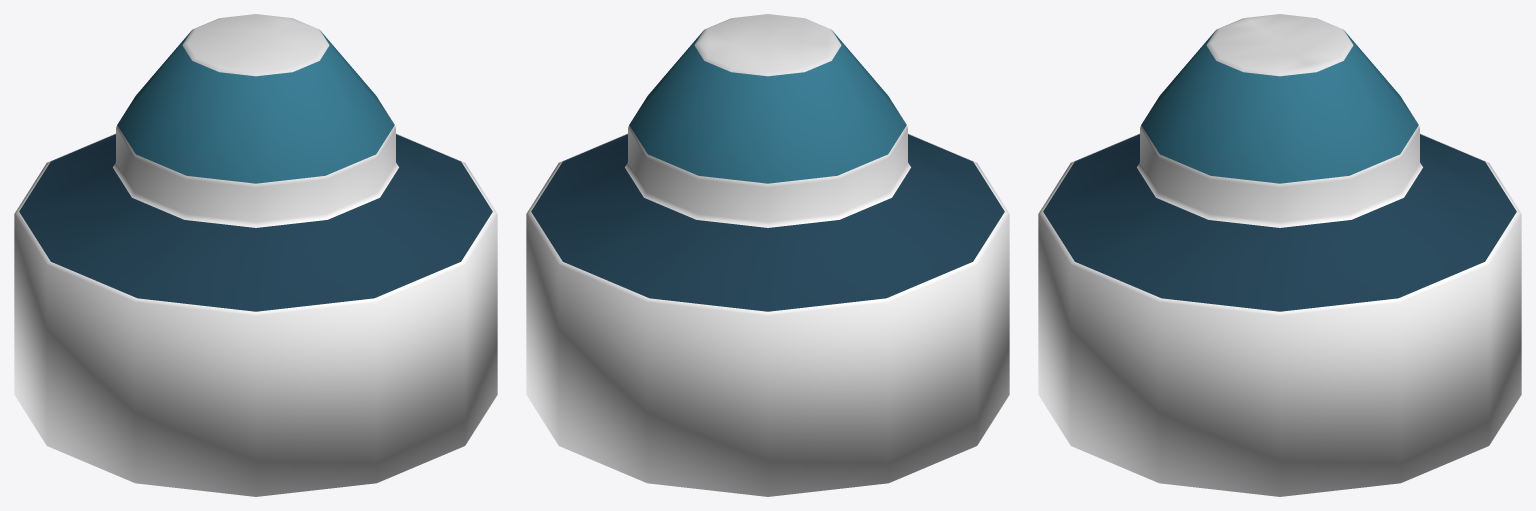
The model's file is HologramStand.fbx.
3 renders of one model, left to right at view 1: azimuth 30°, elevation 25°; view 2: azimuth 150°, elevation 25°; view 3: azimuth 270°, elevation 25°, orthographic.
Visible parts, largest first — view 1: Circle; view 2: Circle; view 3: Circle.
Boxes of the visible parts, box(x1,y1,x2,y2) form: Circle: box(14, 14, 497, 496); Circle: box(526, 14, 1009, 496); Circle: box(1038, 14, 1521, 496).
Size of the model in its own units: 200 by 161 by 200.
